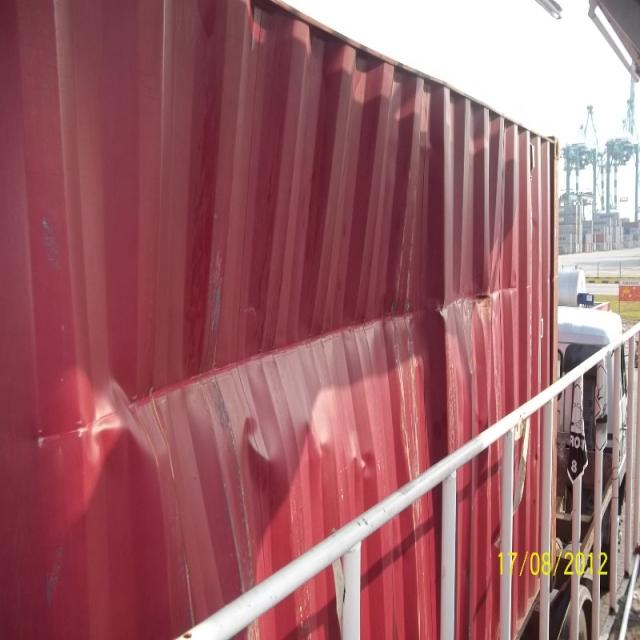dent: (305, 352, 423, 476), (59, 364, 153, 461), (446, 302, 497, 421), (481, 207, 516, 290), (238, 419, 279, 488)
